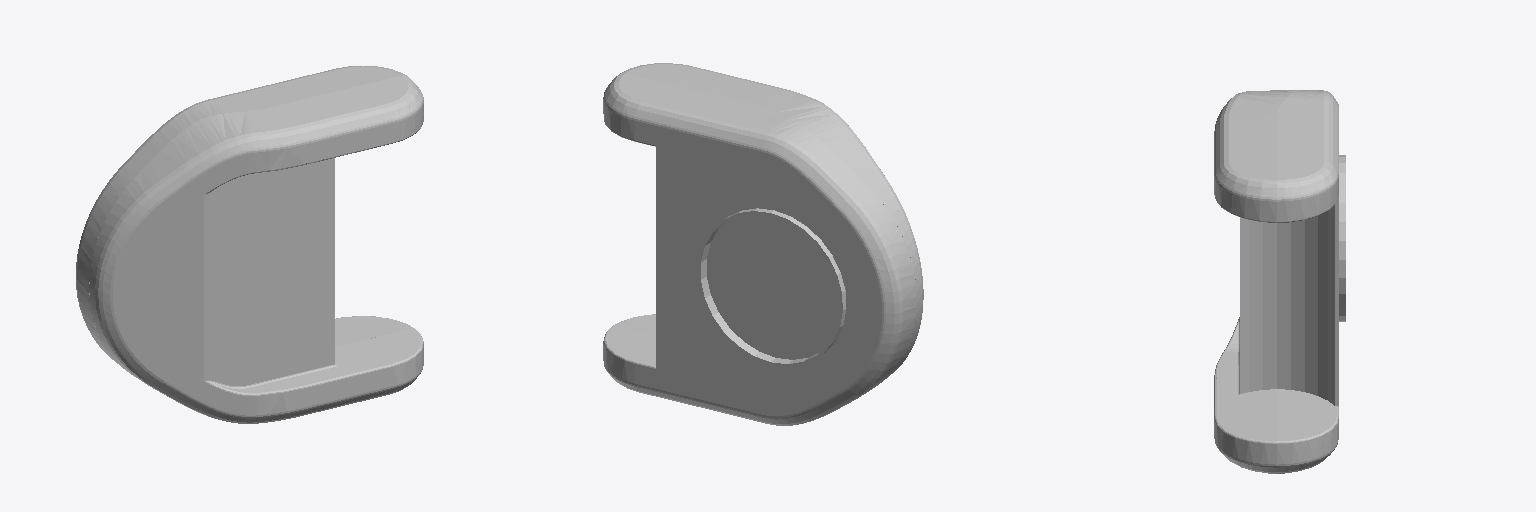
Rendered from head_pan_link.obj.
The picture shows the model from 3 angles: view 1: azimuth 30°, elevation 25°; view 2: azimuth 150°, elevation 25°; view 3: azimuth 270°, elevation 25°; orthographic projection.
Parts seen in each view (by area): view 1: head_pan_link_head_pan_link; view 2: head_pan_link_head_pan_link; view 3: head_pan_link_head_pan_link.
Part boxes in pixels (left/top/right/bottom): head_pan_link_head_pan_link: left=76, top=66, right=423, bottom=423; head_pan_link_head_pan_link: left=603, top=63, right=923, bottom=425; head_pan_link_head_pan_link: left=1214, top=90, right=1345, bottom=473.
Size of the model in its own units: 0.3224 by 0.286 by 0.116.